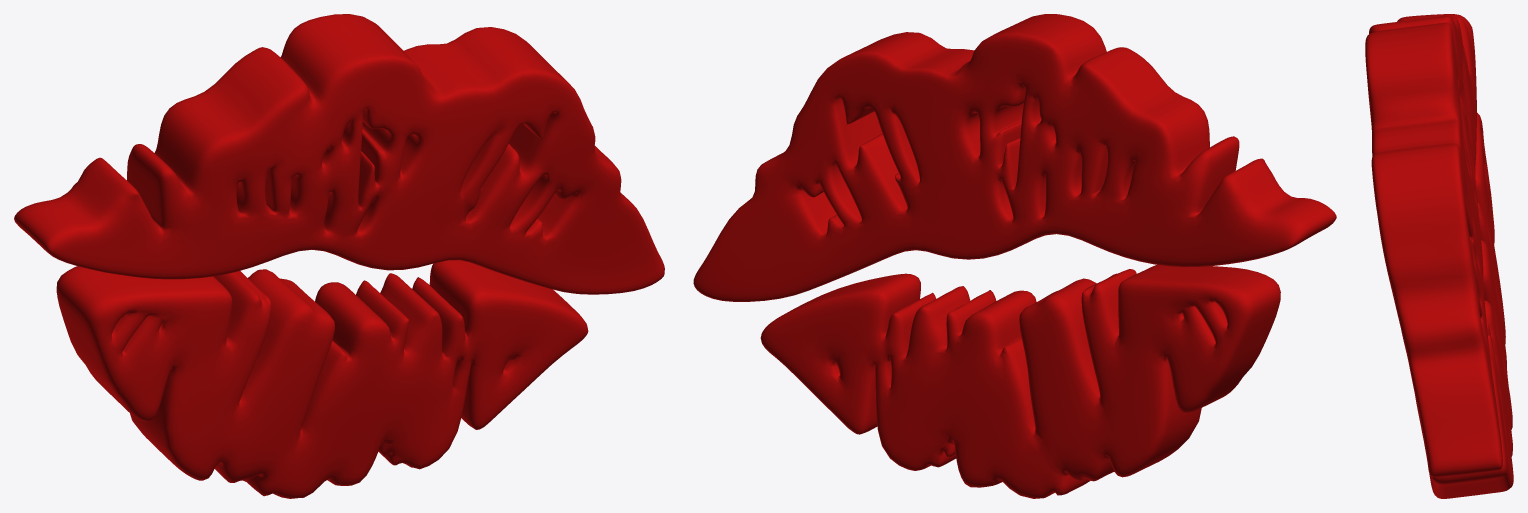
Rendered from kiss.FBX.
3 views of the same model, side by side, from view 1: azimuth 30°, elevation 25°; view 2: azimuth 150°, elevation 25°; view 3: azimuth 270°, elevation 25° (orthographic). The views are drawn at different scales.
Parts seen in each view (by area): view 1: ZBrush_defualt_group, Group26861; view 2: ZBrush_defualt_group, Group26861; view 3: ZBrush_defualt_group, Group26861.
Boxes of the visible parts, left/top/right/bottom form: ZBrush_defualt_group: left=14, top=14, right=664, bottom=294; Group26861: left=56, top=260, right=588, bottom=498; ZBrush_defualt_group: left=693, top=14, right=1336, bottom=301; Group26861: left=760, top=265, right=1280, bottom=498; ZBrush_defualt_group: left=1365, top=14, right=1502, bottom=477; Group26861: left=1415, top=112, right=1513, bottom=498.
Size of the model in its own units: 21.81 by 15.45 by 4.9.
